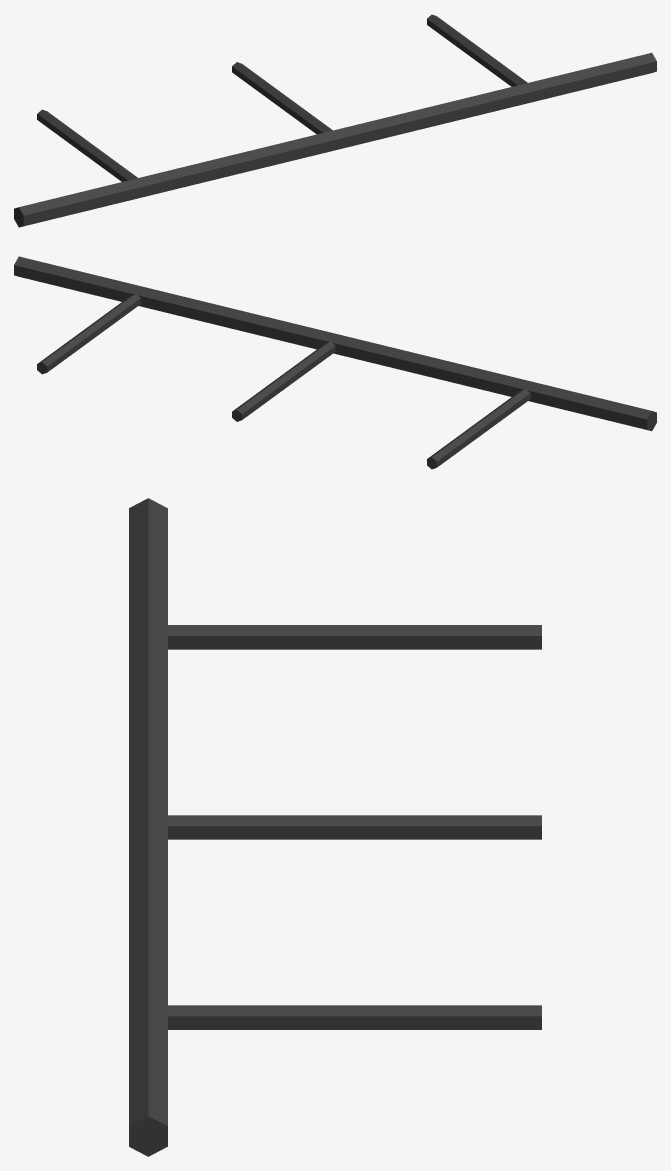
3 views of the same model, one above another, from view 1: azimuth 30°, elevation 25°; view 2: azimuth 150°, elevation 25°; view 3: azimuth 270°, elevation 25° (orthographic). The views are drawn at different scales.
Parts seen in each view (by area): view 1: Pipe, Drip branch, Drip branch.002, Drip branch.001; view 2: Pipe, Drip branch, Drip branch.001, Drip branch.002; view 3: Pipe, Drip branch, Drip branch.001, Drip branch.002.
Boxes of the visible parts, x1,y1,x2,y2 form: Pipe: [14, 52, 656, 227]; Drip branch: [37, 109, 137, 181]; Drip branch.002: [427, 14, 527, 86]; Drip branch.001: [232, 62, 332, 134]; Pipe: [14, 256, 656, 431]; Drip branch: [427, 388, 530, 469]; Drip branch.001: [232, 340, 335, 421]; Drip branch.002: [37, 293, 140, 374]; Pipe: [129, 498, 167, 1156]; Drip branch: [164, 625, 541, 649]; Drip branch.001: [164, 815, 541, 839]; Drip branch.002: [164, 1005, 541, 1029].
Bounding box in the file's own units: 1.3 × 0.04 × 0.3673.
Materials: 1 (1 with a texture image).
